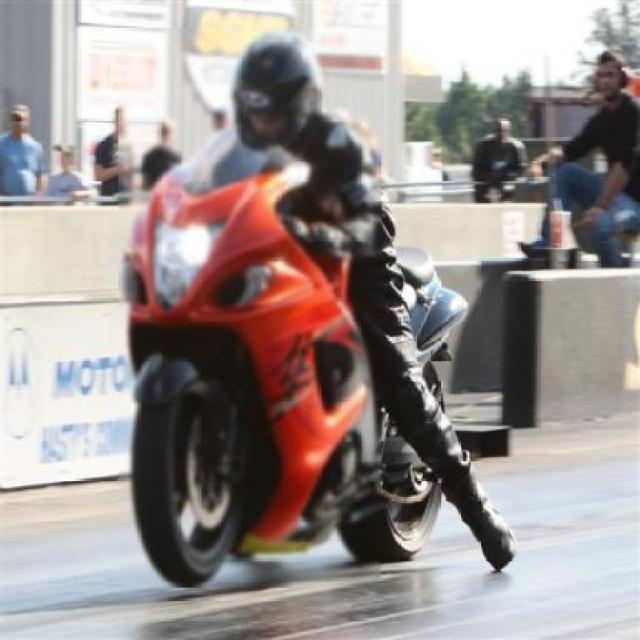helmet: (217, 35, 340, 156)
motorcycle: (105, 34, 543, 606)
